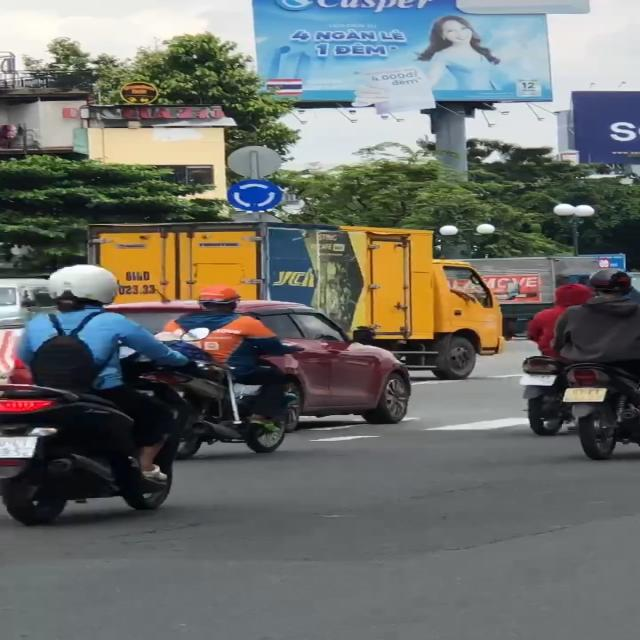Bien bao noi giao nhau chay theo vong xuyen: (225, 178, 286, 212)
